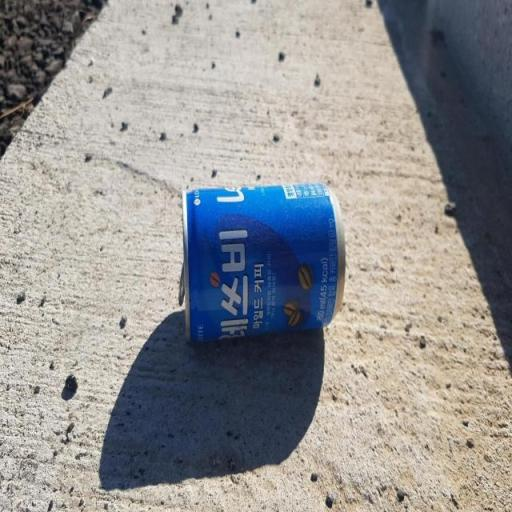metal: (171, 159, 358, 363)
